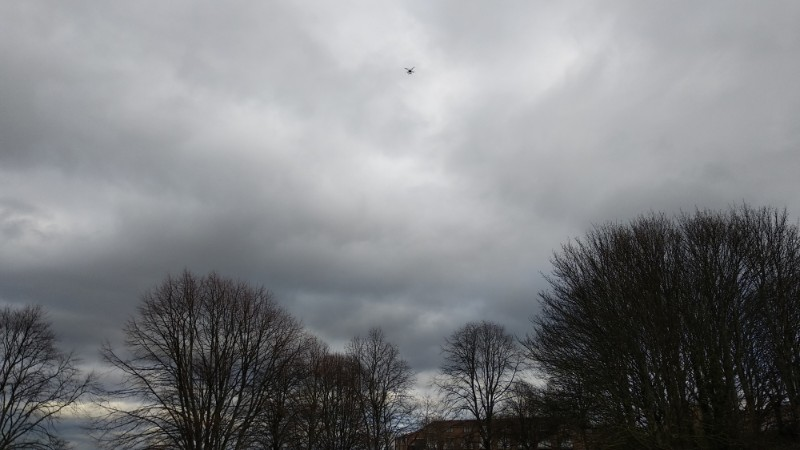drone: (404, 66, 417, 77)
